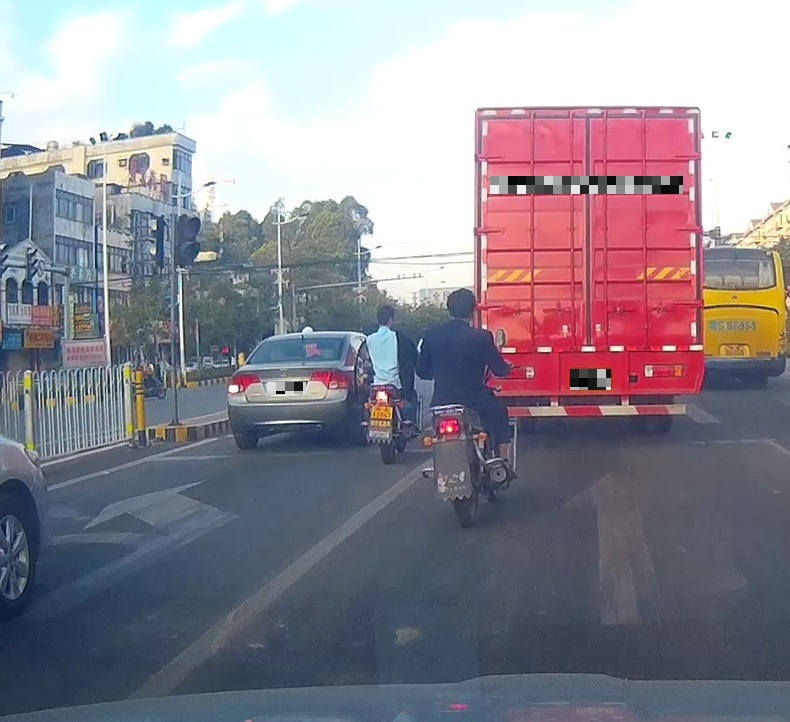L_light: (227, 373, 261, 394), (493, 366, 535, 379)
R_light: (309, 369, 352, 390), (644, 364, 688, 377)
T_light: (572, 117, 603, 125), (293, 338, 311, 341)
day-left: (227, 331, 354, 449)
day-no: (473, 106, 705, 434)
plate_1: (267, 382, 306, 394)
plate_2: (490, 176, 683, 194)
plate_3: (570, 369, 611, 390)
